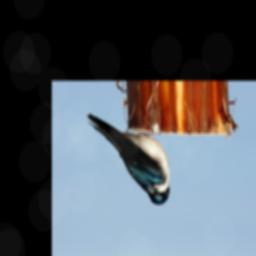Swallow: (85, 111, 171, 206)
